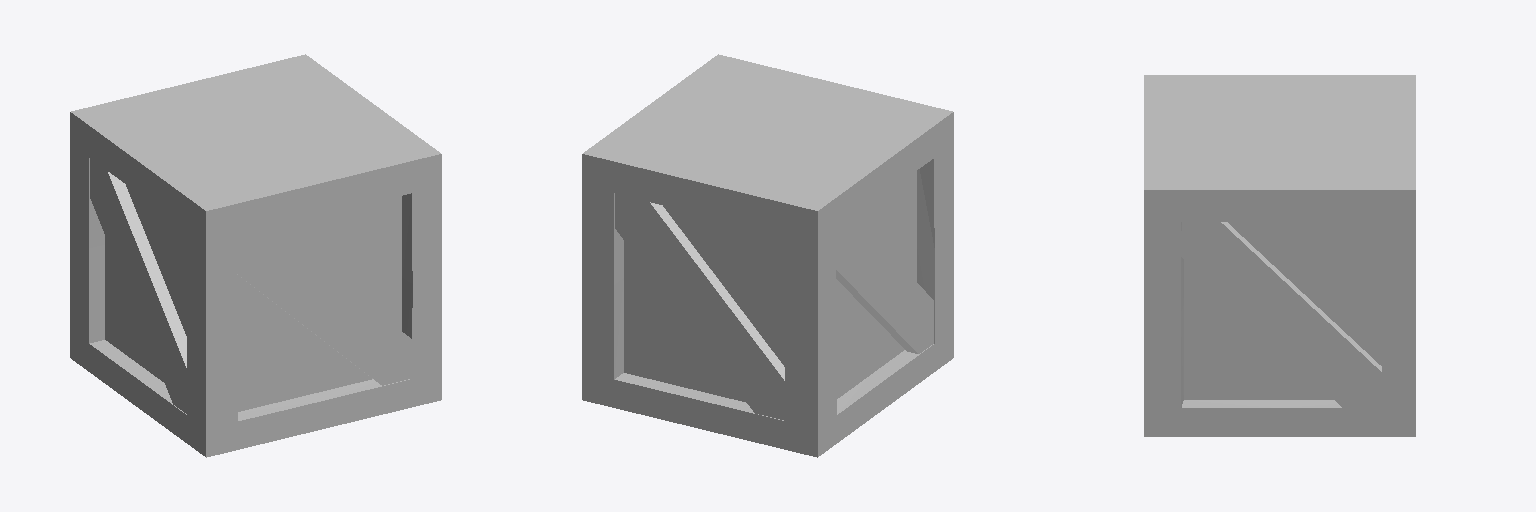
Rendered from woodenBox.obj.
The picture shows the model from 3 angles: view 1: azimuth 30°, elevation 25°; view 2: azimuth 150°, elevation 25°; view 3: azimuth 270°, elevation 25°; orthographic projection.
Parts seen in each view (by area): view 1: 立方体; view 2: 立方体; view 3: 立方体.
Boxes of the visible parts, <box> form: 立方体: <box>70,54,441,457</box>; 立方体: <box>582,54,953,457</box>; 立方体: <box>1144,75,1415,436</box>.
Size of the model in its own units: 2 by 2 by 2.